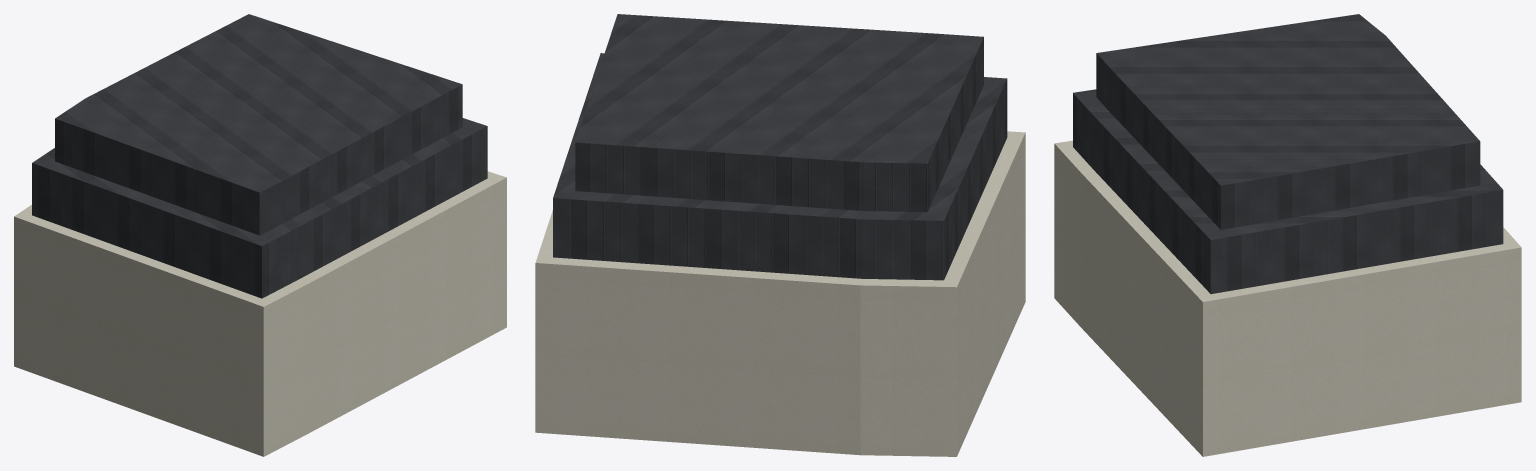
3 views of the same model, side by side, from view 1: azimuth 30°, elevation 25°; view 2: azimuth 150°, elevation 25°; view 3: azimuth 270°, elevation 25° (orthographic). The views are drawn at different scales.
Visible parts, largest first — view 1: lmbase_503713425, lmbase_503713425_roof_b, lmbase_503713425_roof_a; view 2: lmbase_503713425, lmbase_503713425_roof_b, lmbase_503713425_roof_a; view 3: lmbase_503713425, lmbase_503713425_roof_b, lmbase_503713425_roof_a.
Boxes of the visible parts, left/top/right/bottom form: lmbase_503713425: left=14, top=171, right=506, bottom=456; lmbase_503713425_roof_b: left=55, top=14, right=462, bottom=235; lmbase_503713425_roof_a: left=32, top=118, right=487, bottom=298; lmbase_503713425: left=535, top=131, right=1025, bottom=456; lmbase_503713425_roof_b: left=575, top=14, right=983, bottom=212; lmbase_503713425_roof_a: left=553, top=53, right=1007, bottom=280; lmbase_503713425: left=1054, top=140, right=1521, bottom=456; lmbase_503713425_roof_b: left=1096, top=14, right=1480, bottom=229; lmbase_503713425_roof_a: left=1073, top=89, right=1503, bottom=294.
Size of the model in its own units: 18.87 by 10.8 by 18.05.
2 materials, 2 textured.
